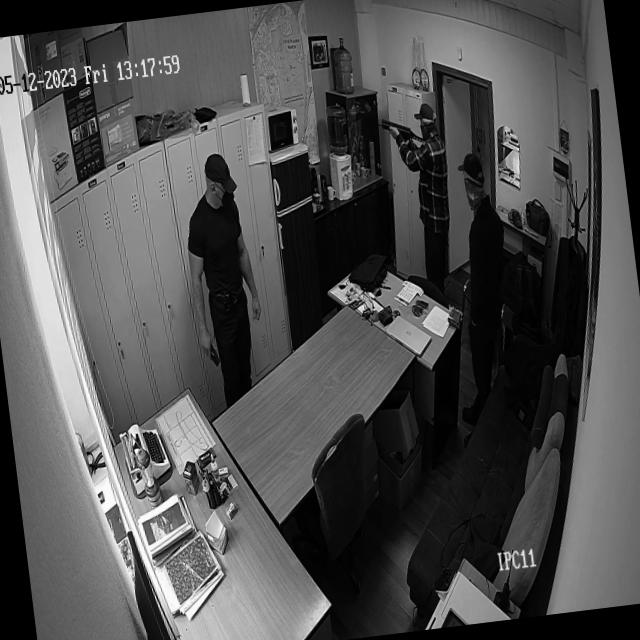gun: (377, 112, 425, 147)
person: (428, 148, 531, 456), (176, 148, 274, 410)
person with a gun: (375, 97, 464, 300)
